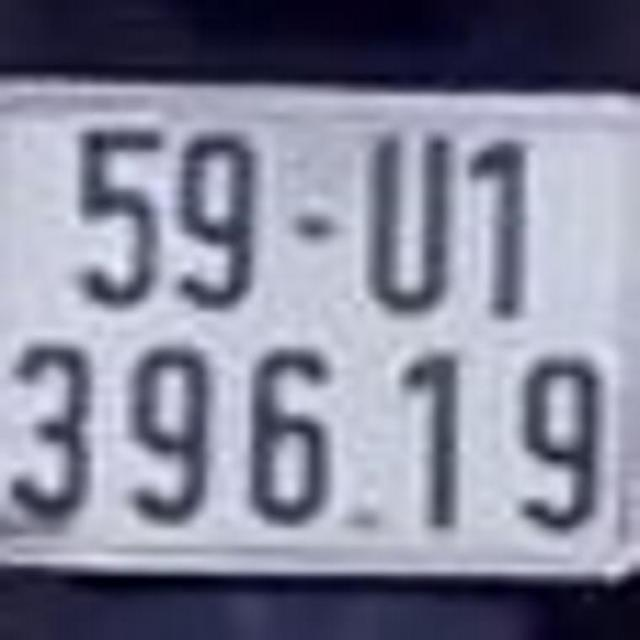1: (401, 348, 464, 538), (468, 139, 532, 320)
3: (9, 343, 90, 528)
5: (73, 118, 162, 308)
6: (245, 344, 334, 536)
9: (518, 348, 604, 542), (127, 340, 211, 526), (176, 126, 258, 308)
U: (368, 126, 451, 314)
